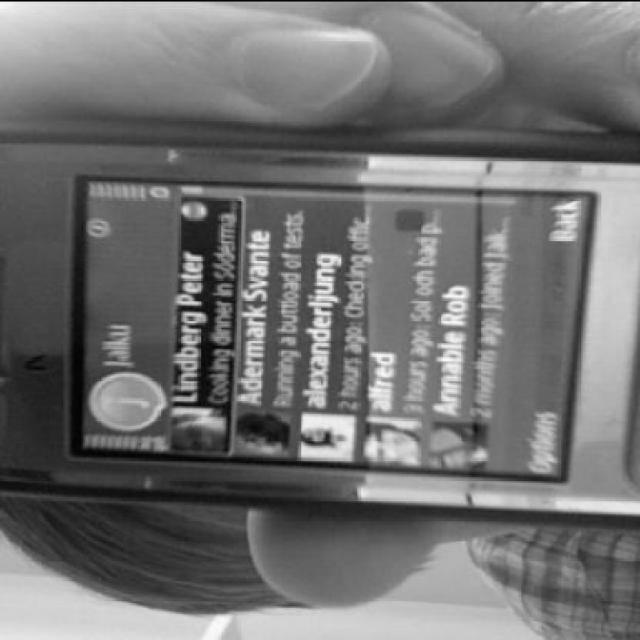fake: (0, 128, 629, 554)
